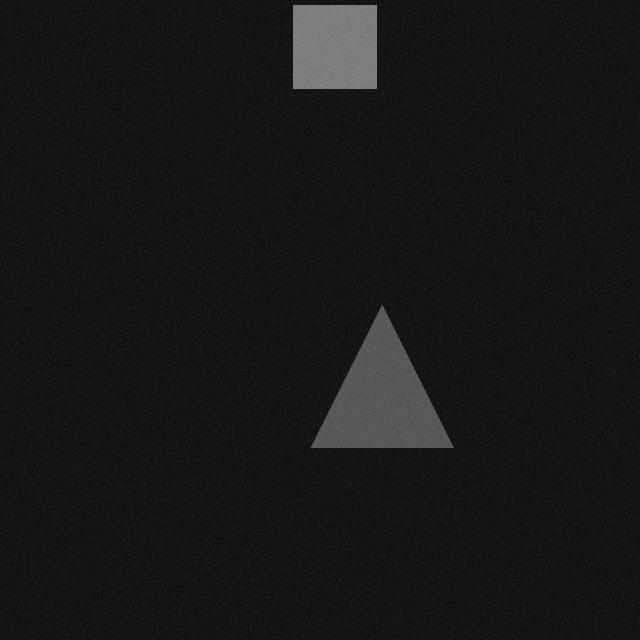square: (305, 10, 388, 93)
triangle: (323, 310, 465, 452)
